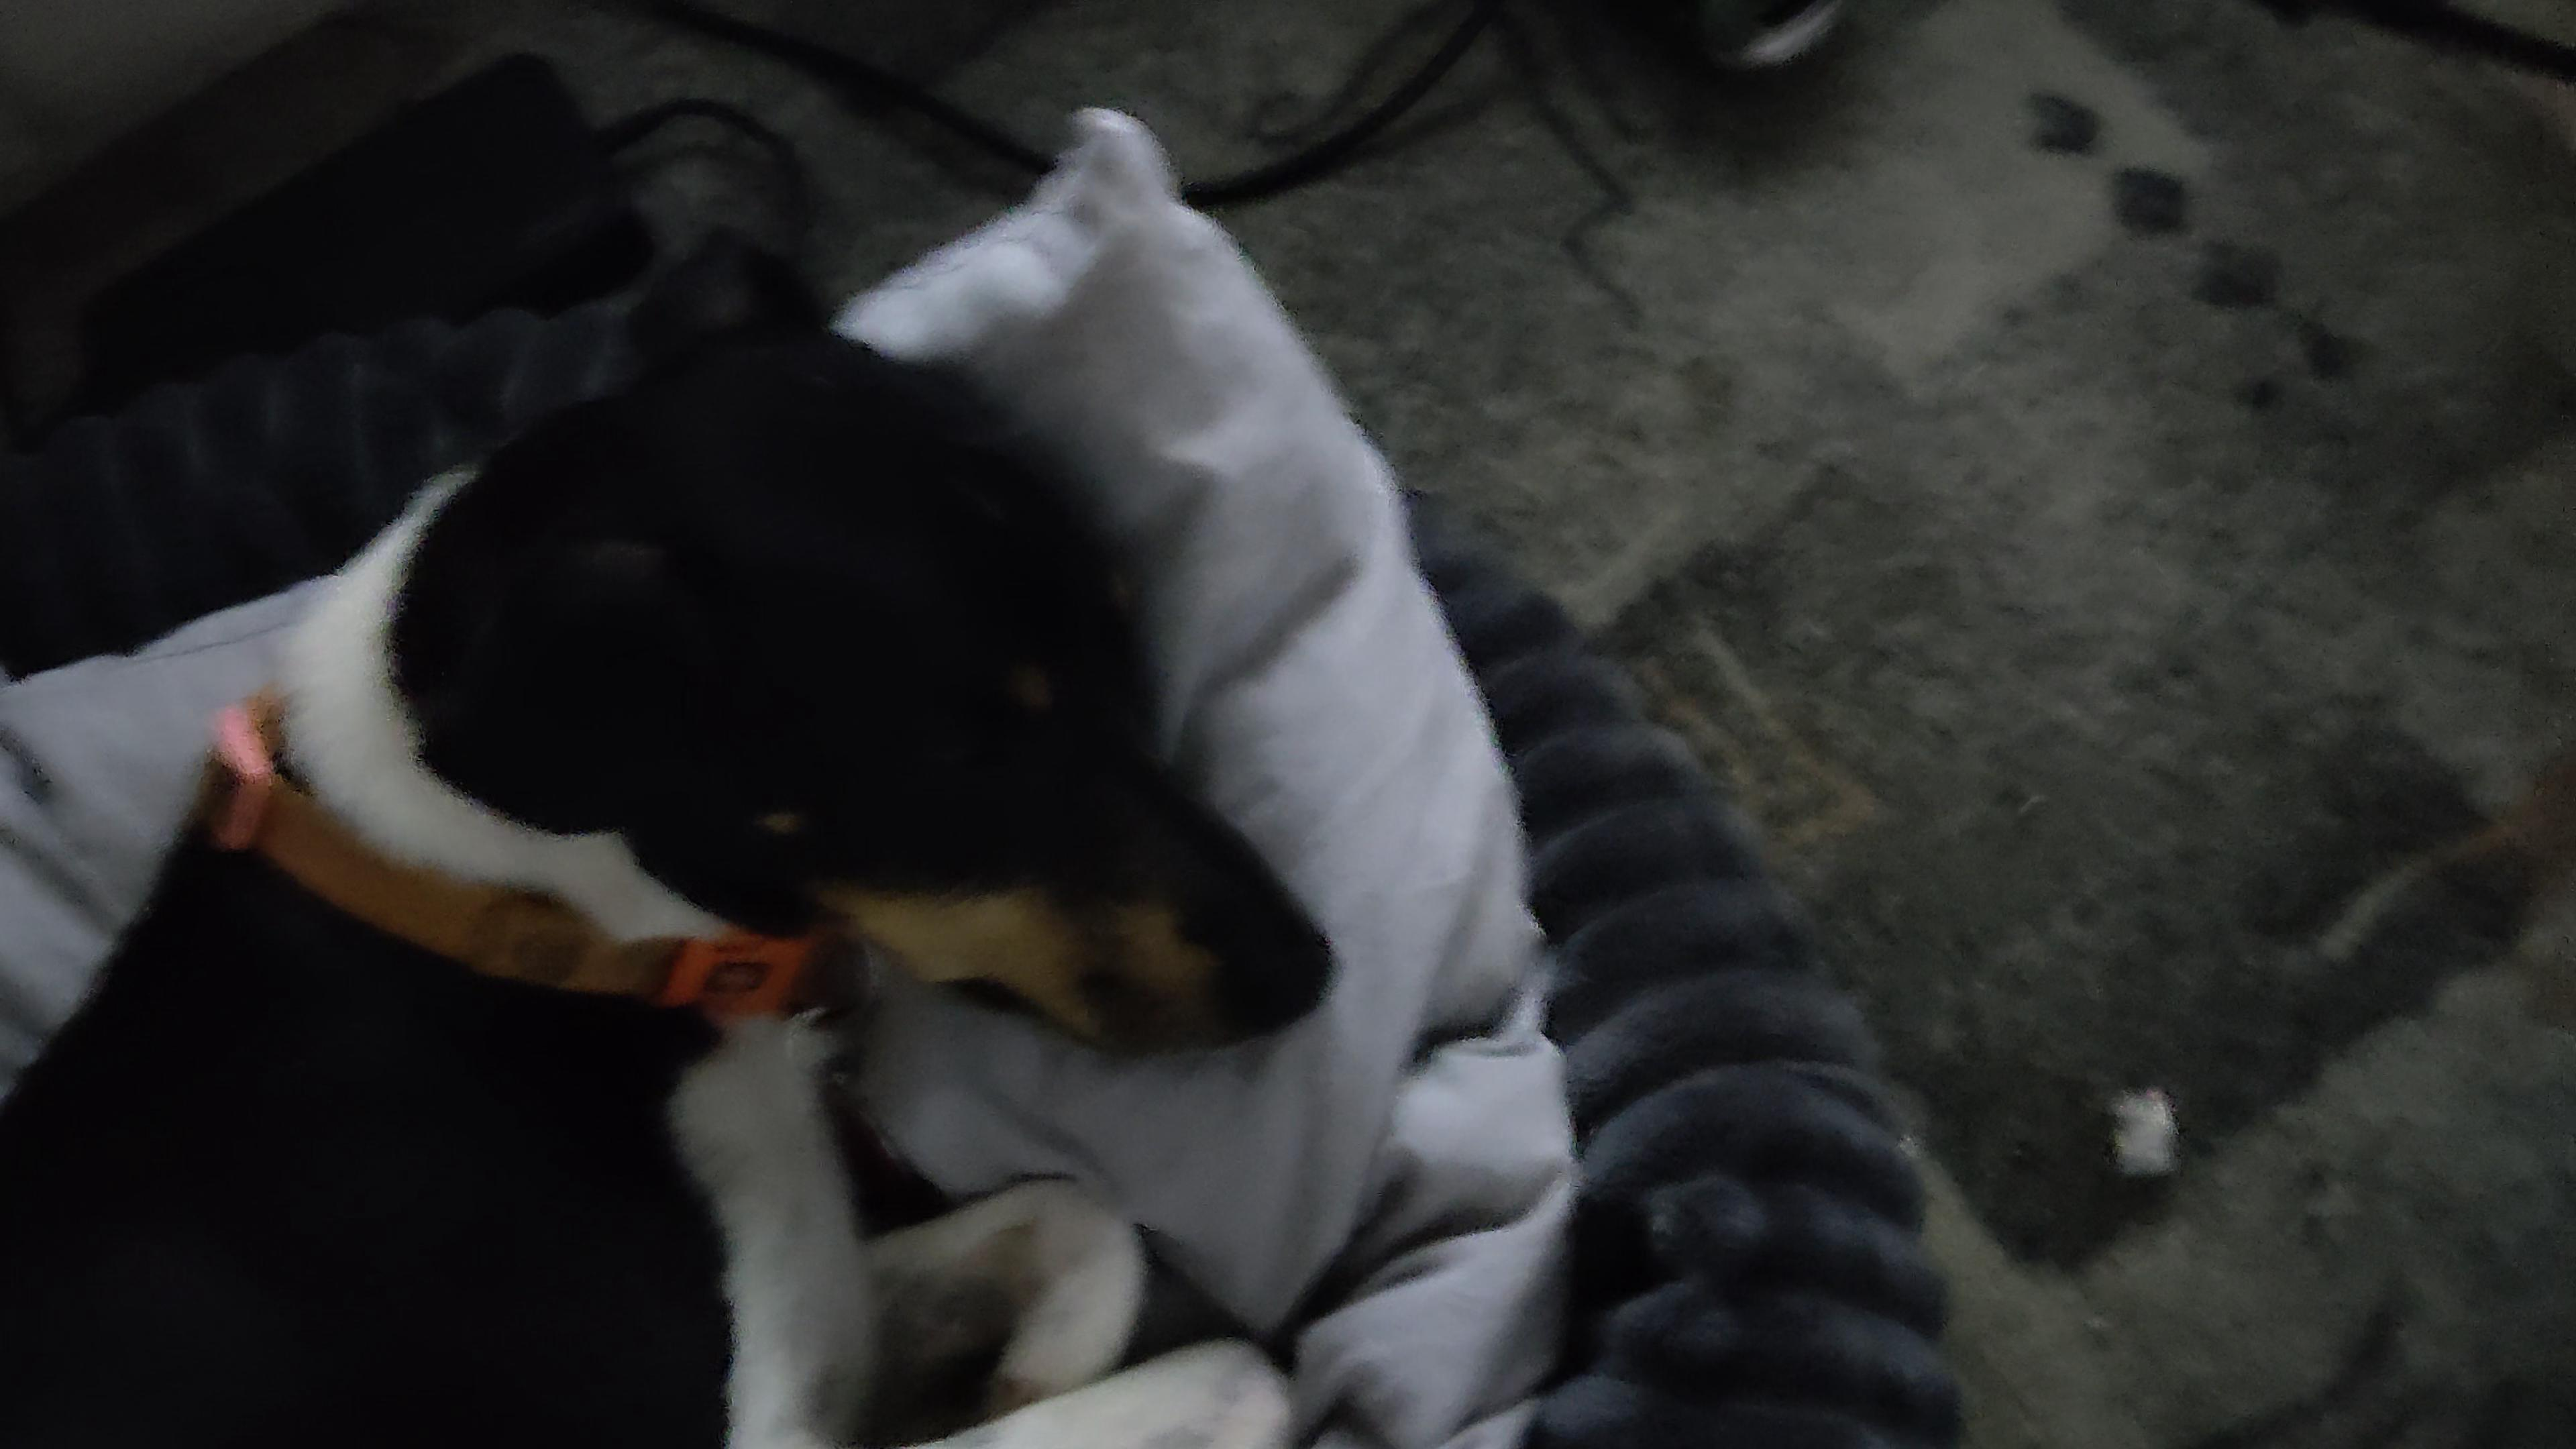Dog: (0, 212, 1401, 1449)
